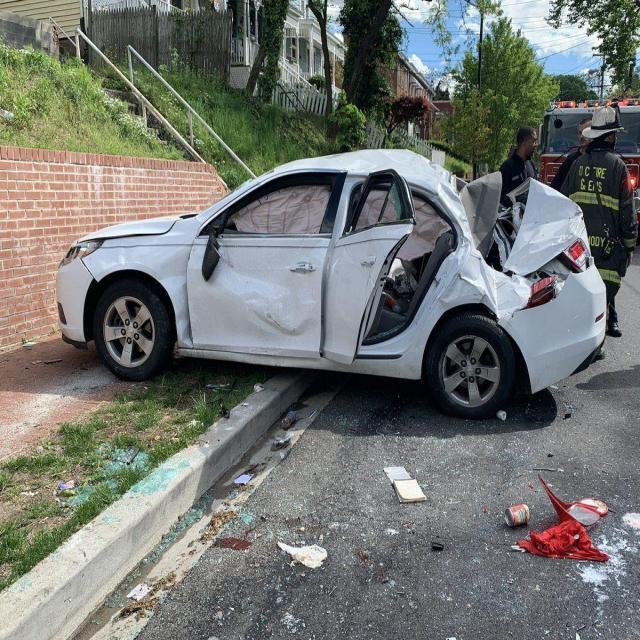damaged: (338, 150, 594, 326), (167, 247, 410, 362)
